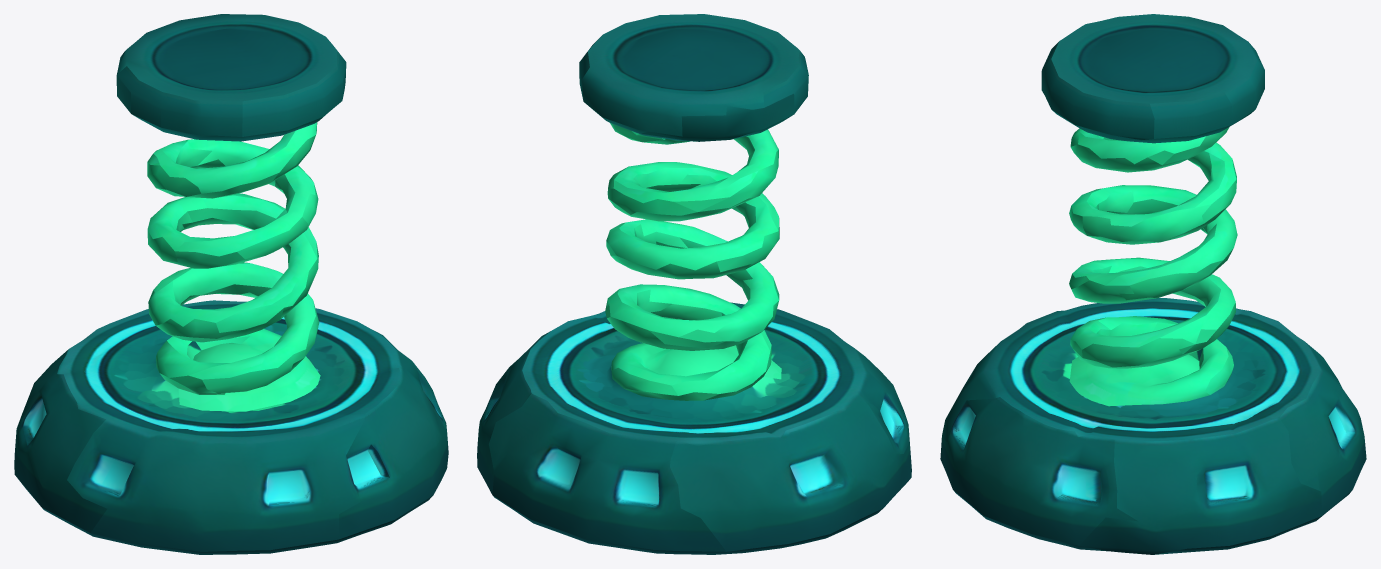
File: tled.fbx
3 renders of one model, left to right at view 1: azimuth 30°, elevation 25°; view 2: azimuth 150°, elevation 25°; view 3: azimuth 270°, elevation 25°, orthographic.
Parts seen in each view (by area): view 1: tmp57a_ti1q.ply; view 2: tmp57a_ti1q.ply; view 3: tmp57a_ti1q.ply.
Boxes of the visible parts, <box> form: tmp57a_ti1q.ply: <box>14,14,448,554</box>; tmp57a_ti1q.ply: <box>477,14,911,554</box>; tmp57a_ti1q.ply: <box>940,14,1366,554</box>.
Bounding box in the file's own units: 193 × 199 × 189.
Materials: 1 (1 with a texture image).
